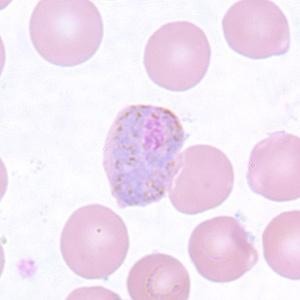Infected: (101, 105, 186, 209)
Uninfected: (61, 205, 131, 282), (30, 0, 104, 69), (166, 144, 236, 214), (189, 216, 259, 286), (142, 21, 211, 89), (221, 0, 289, 59), (246, 131, 300, 203), (127, 252, 190, 300)
